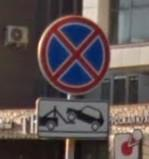No Parking: (38, 15, 113, 97)
